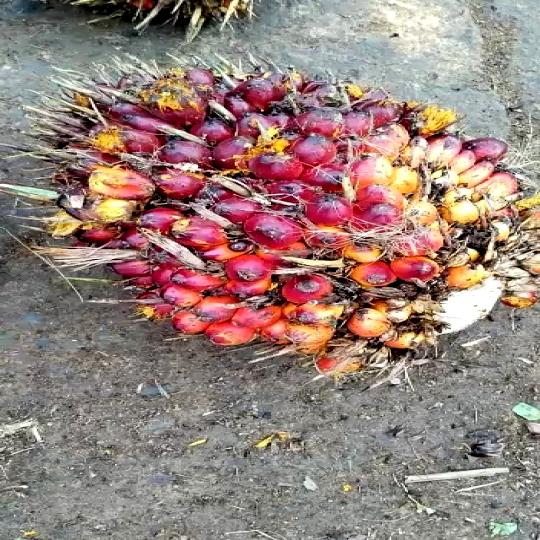masak: (46, 67, 540, 375)
